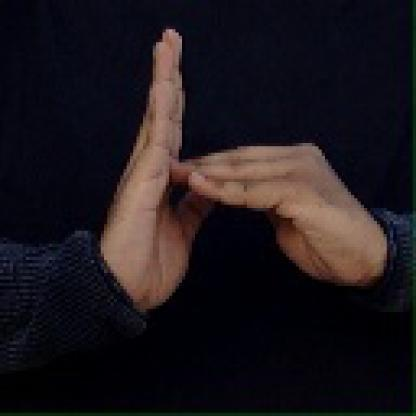Z: (101, 23, 348, 288)
